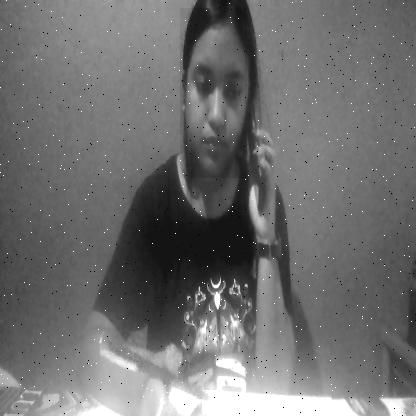Normal: (180, 8, 247, 178)
